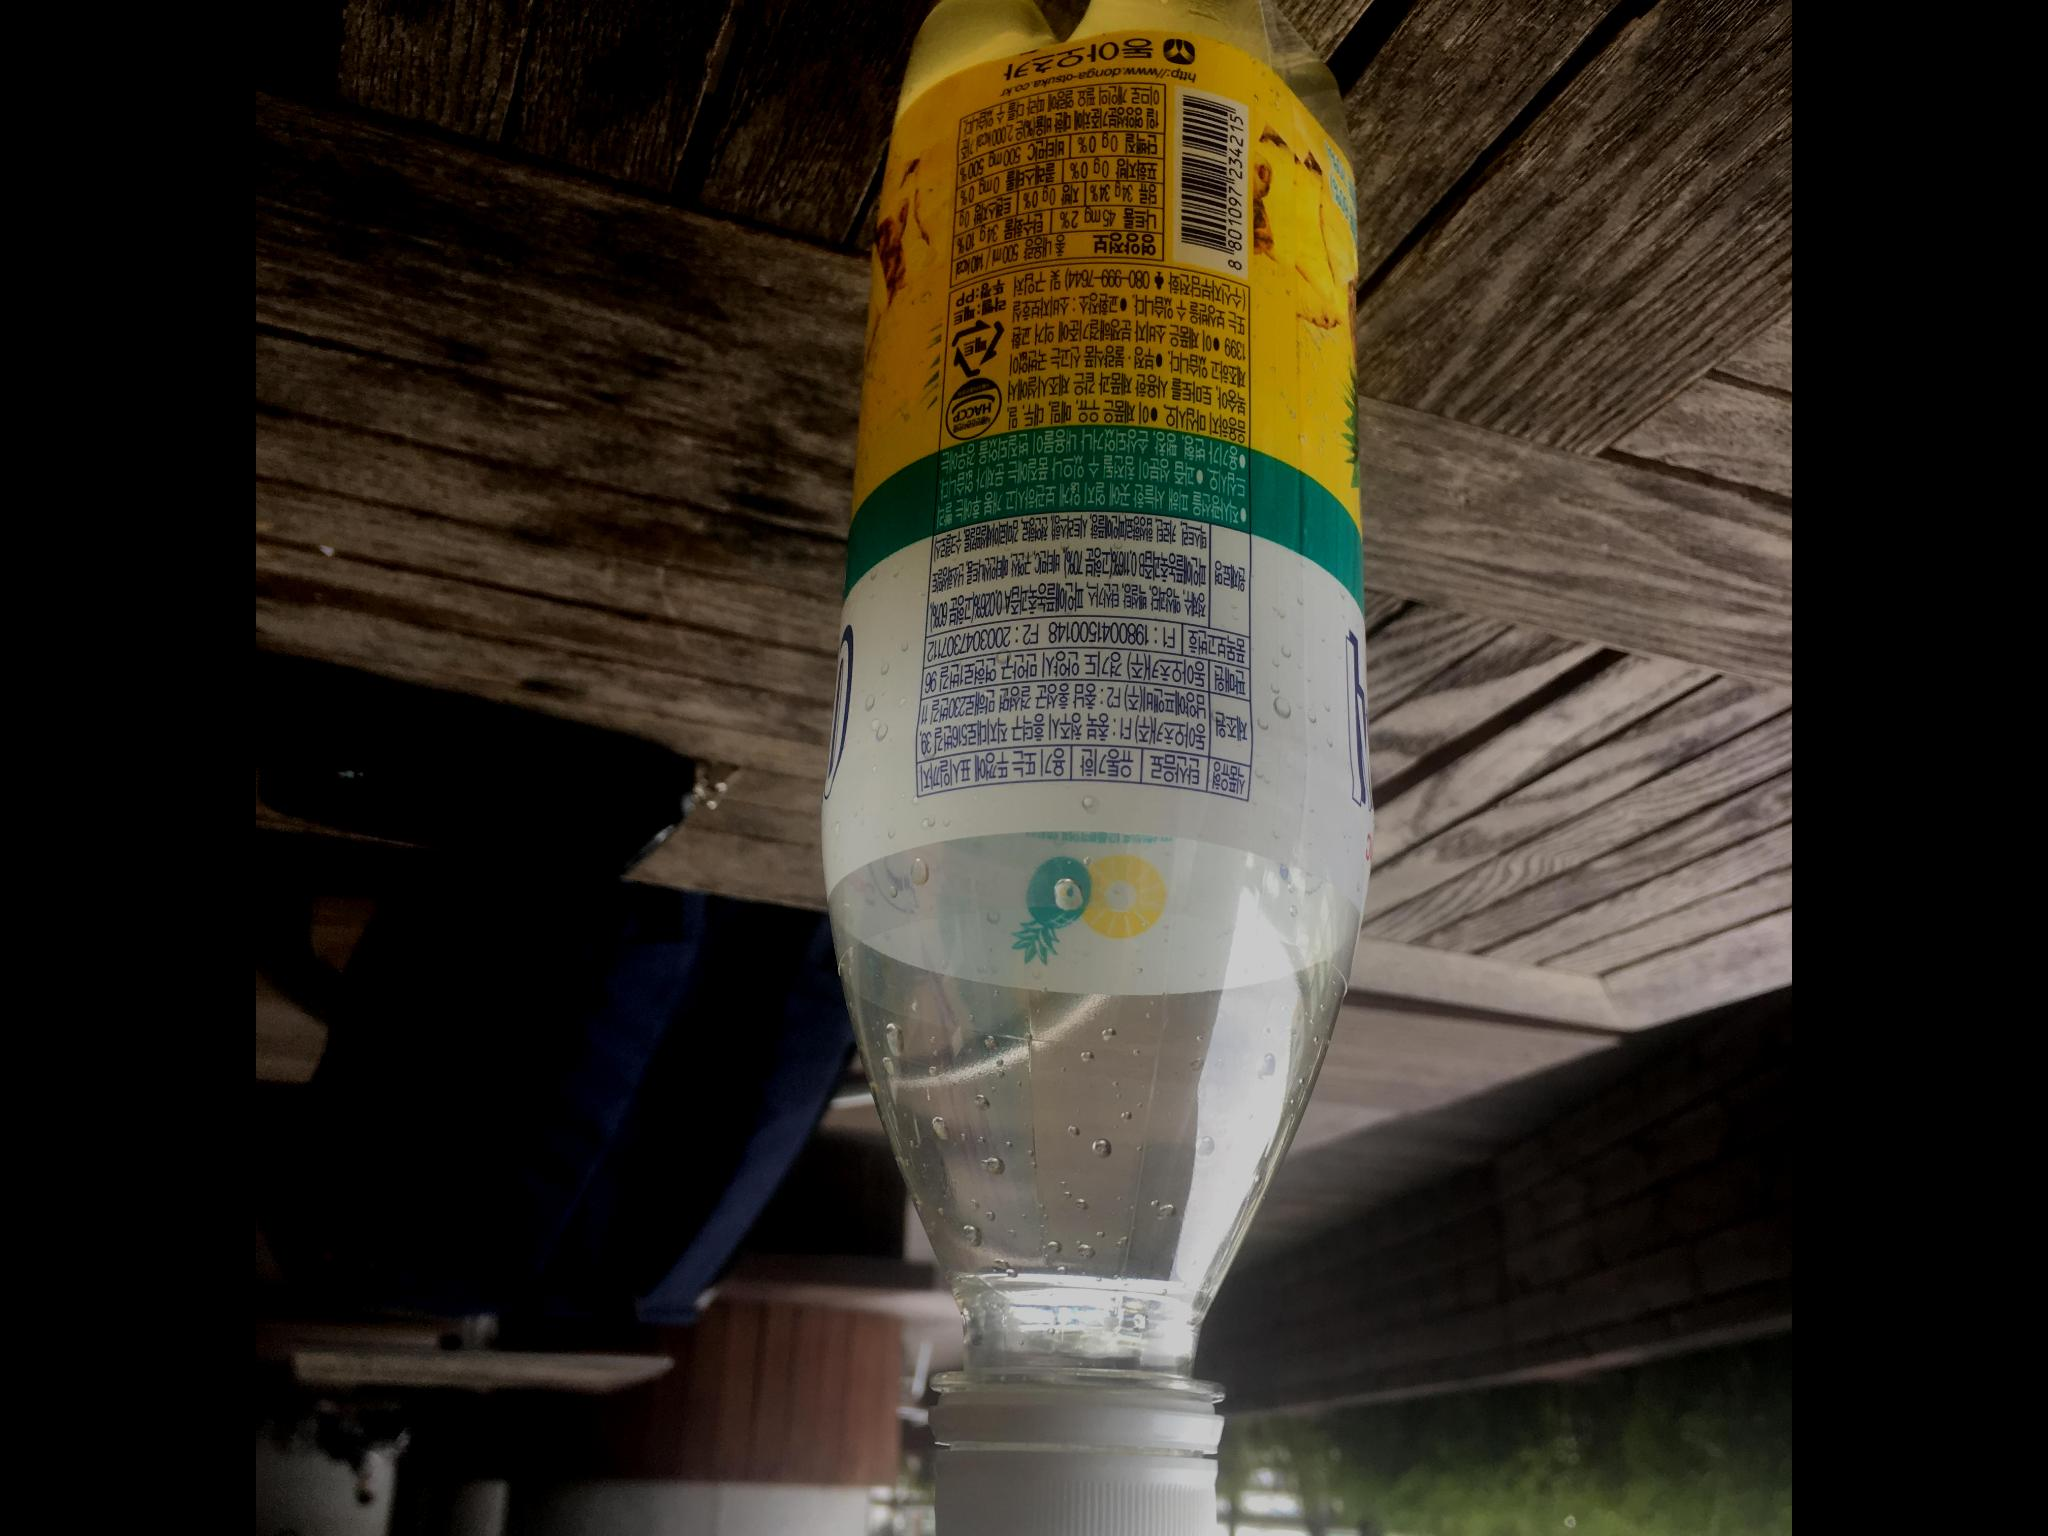bottle: (797, 0, 1403, 1536)
